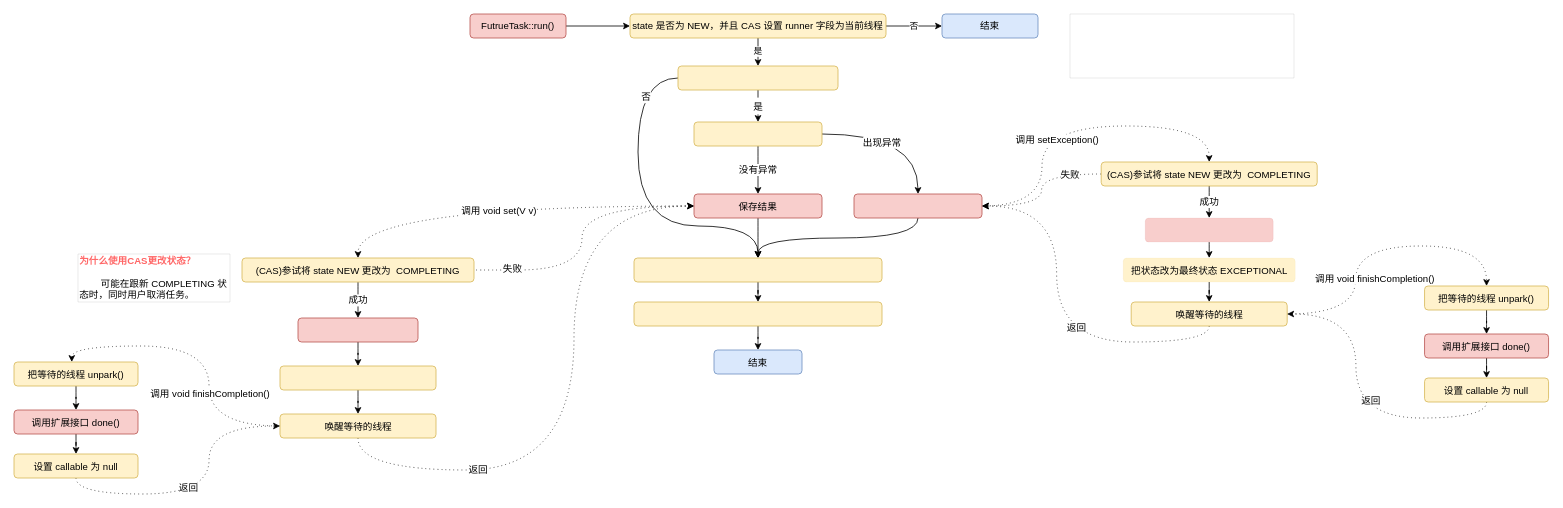
Some shapes in this 1563 by 508 pixel diagram are drawn without their labels. Here are the shapes that lost their labels. From the top down, the centre of each, then its label:
At point 1182,46: "为什么使用CAS更改 runner ? 把 runner 作为执行任务的锁， 如果 runner 不为 null 时，说明这个任务在执行。否则任务当前没有执行。".
At point 757,77: "任务不为 null，并且 state 为 NEW".
At point 757,133: "执行任务 callable.call()".
At point 917,205: "保存异常".
At point 1209,230: "把异常保存到 outcome".
At point 757,269: "设置runner为 null ， 防止并发调用 run()".
At point 357,329: "把结果保存到 outcome".
At point 757,313: "如果状态为 INTERRUPTING 等待变为 INTERRUTED".
At point 357,377: "把状态改为最终状态 NORMAL".
